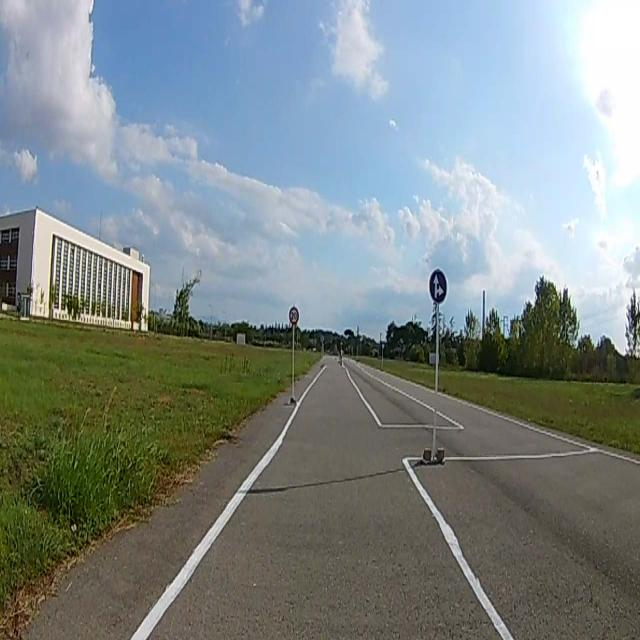ilerisag: (430, 270, 446, 302)
